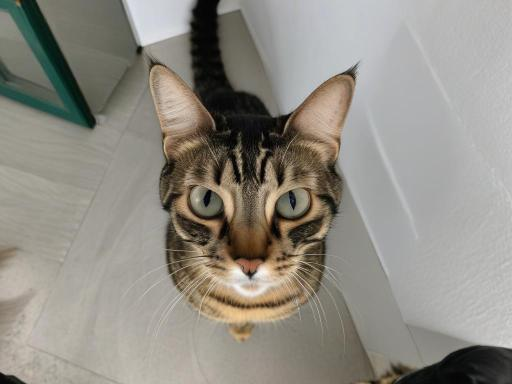cat_standing: (149, 0, 356, 342)
